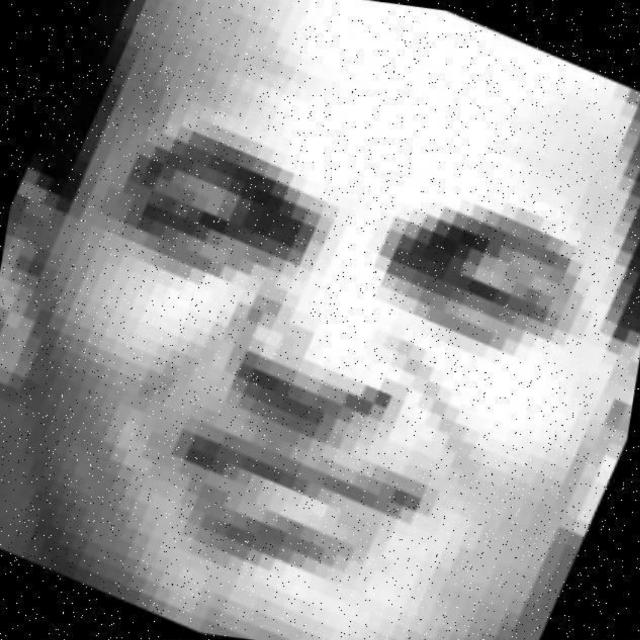Disgust: (15, 40, 640, 640)
